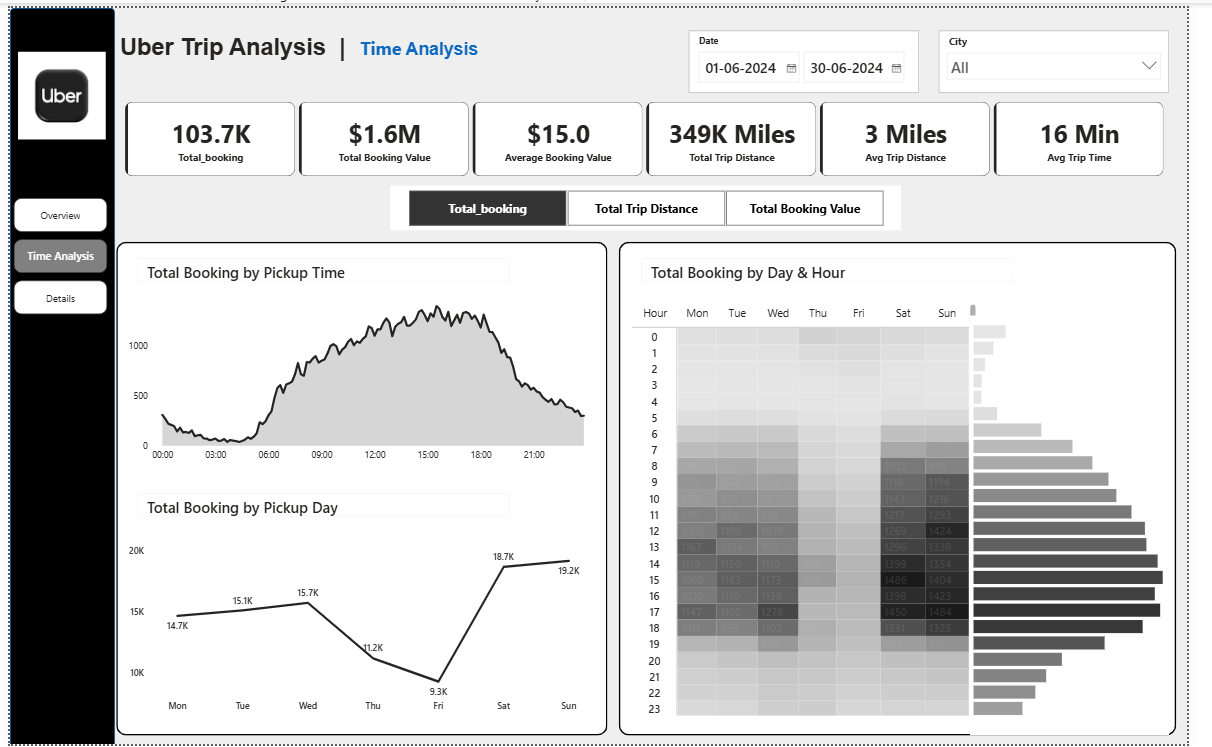

This screenshot's page, from the dashboard's own definition file:
{"tool":"powerbi","page":{"name":"Time Analysis","canvas":[1600,1000],"ordinal":1},"visuals":[{"type":"shape","box":[0,0,142.5,1600],"z":0},{"type":"textbox","box":[144.4,30.6,601.2,57.7],"z":1000},{"type":"cardVisual","fields":{"Data":["Uber_Trip_Details.Total_booking","Uber_Trip_Details.Total Booking Amount","Uber_Trip_Details.Average Booking Value","Uber_Trip_Details.Total Trip Distance","Uber_Trip_Details.Avg Trip Distance","Uber_Trip_Details.Avg Trip Time"]},"box":[144.4,115.5,1440.2,125.7],"z":2000},{"type":"shape","box":[144.4,317.6,667.5,670.9],"z":3000},{"type":"slicer","fields":{"Values":["New_Parameter.New_Parameter"]},"box":[516.3,241.2,694.6,61.1],"z":4000},{"type":"slicer","fields":{"Values":["Calendar_Table.Date"]},"box":[922.2,30.6,312.5,84.9],"z":5000},{"type":"slicer","fields":{"Values":["Location_Table.City"]},"box":[1261.9,30.6,312.5,84.9],"z":6000},{"type":"areaChart","fields":{"Y":["Uber_Trip_Details.Total_booking"],"Category":["Uber_Trip_Details.Pickup Hour (HH MM SS) (bins)"]},"box":[156.3,390.6,643.7,234.4],"z":7000},{"type":"cardVisual","fields":{"Data":["Uber_Trip_Details.Title for pickup time"]},"box":[156.3,322.7,540.1,67.9],"z":8000},{"type":"lineChart","fields":{"Y":["Uber_Trip_Details.Total_booking"],"Category":["Calendar_Table.Day Name"]},"box":[156.3,723.5,643.7,242.9],"z":9000},{"type":"cardVisual","fields":{"Data":["Uber_Trip_Details.Title for Pickup Day"]},"box":[156.3,642,540.1,67.9],"z":10000},{"type":"shape","box":[827.1,317.6,757.5,670.9],"z":11000},{"type":"pivotTable","fields":{"Values":["Uber_Trip_Details.Total_booking"],"Rows":["Uber_Trip_Details.Pickup Hour"],"Columns":["Calendar_Table.Day Name"]},"box":[840.7,397.4,477.2,569],"z":12000},{"type":"barChart","fields":{"Y":["Uber_Trip_Details.Total_booking"],"Category":["Uber_Trip_Details.Pickup Hour"]},"box":[1304.4,417.8,270,570.7],"z":13000},{"type":"cardVisual","fields":{"Data":["Uber_Trip_Details.Title for DAY & Hour"]},"box":[840.7,322.7,540.1,67.9],"z":14000},{"type":"image","box":[8.5,59.4,124,118.9],"z":14001},{"type":"pageNavigator","box":[5.1,258.2,127.4,159.6],"z":14002}]}

Visuals, with their boxes on the page's 1600x1000 design canvas (x1, y1, x2, y2). These are canvas units, not pixel positions in the 1212x747 screenshot, which may show the page scaled, cropped or inside an application window:
shape: <box>0,0,142,1600</box>
textbox: <box>144,31,746,88</box>
cardVisual - Uber_Trip_Details.Total_booking x Uber_Trip_Details.Total Booking Amount: <box>144,116,1585,241</box>
shape: <box>144,318,812,988</box>
slicer - New_Parameter.New_Parameter: <box>516,241,1211,302</box>
slicer - Calendar_Table.Date: <box>922,31,1235,116</box>
slicer - Location_Table.City: <box>1262,31,1574,116</box>
areaChart - Uber_Trip_Details.Total_booking x Uber_Trip_Details.Pickup Hour (HH MM SS) (bins): <box>156,391,800,625</box>
cardVisual - Uber_Trip_Details.Title for pickup time: <box>156,323,696,391</box>
lineChart - Uber_Trip_Details.Total_booking x Calendar_Table.Day Name: <box>156,724,800,966</box>
cardVisual - Uber_Trip_Details.Title for Pickup Day: <box>156,642,696,710</box>
shape: <box>827,318,1585,988</box>
pivotTable - Uber_Trip_Details.Total_booking x Uber_Trip_Details.Pickup Hour: <box>841,397,1318,966</box>
barChart - Uber_Trip_Details.Total_booking x Uber_Trip_Details.Pickup Hour: <box>1304,418,1574,988</box>
cardVisual - Uber_Trip_Details.Title for DAY & Hour: <box>841,323,1381,391</box>
image: <box>8,59,132,178</box>
pageNavigator: <box>5,258,132,418</box>
